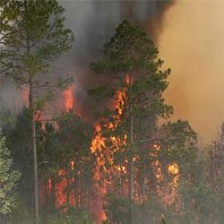fire: (86, 106, 132, 187), (160, 162, 181, 206)
smoke: (79, 1, 181, 104)
